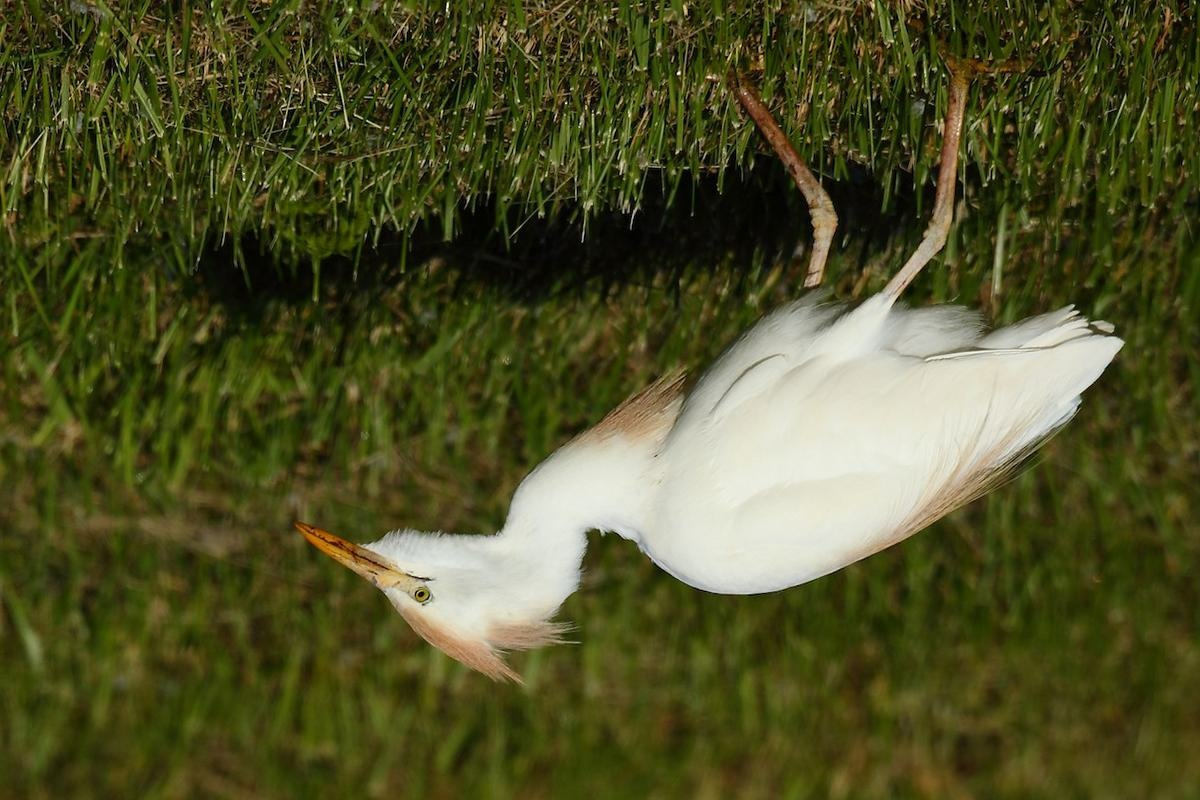egret: (298, 104, 1146, 707)
